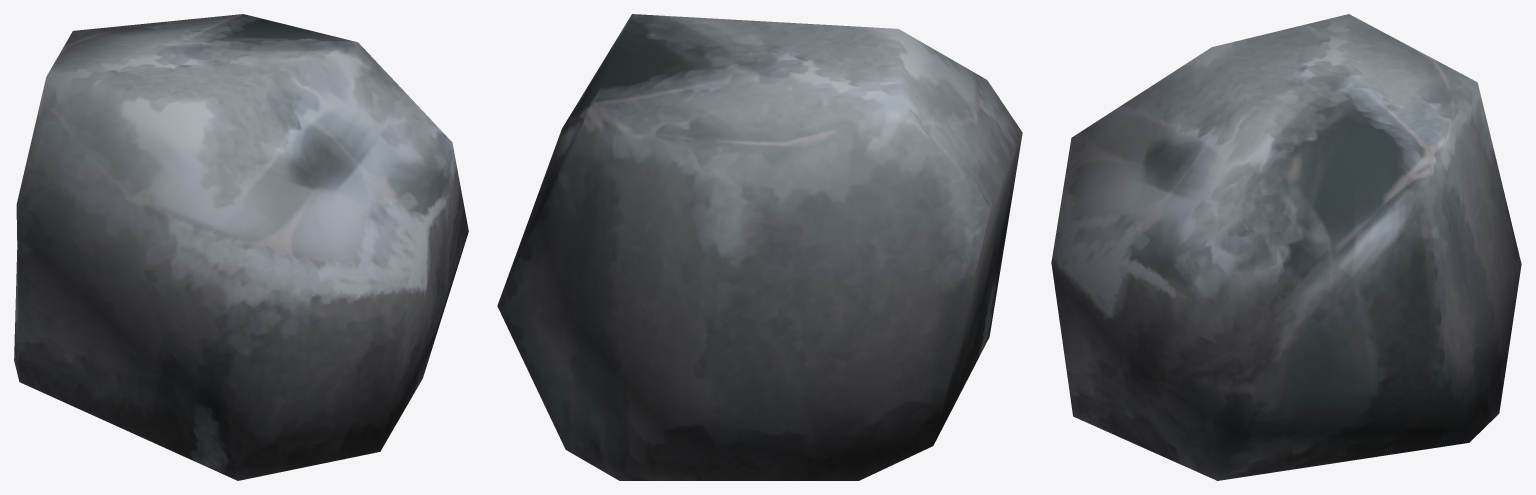
File: Msh_Rock5_Env.fbx
The picture shows the model from 3 angles, left to right: view 1: azimuth 30°, elevation 25°; view 2: azimuth 150°, elevation 25°; view 3: azimuth 270°, elevation 25°; orthographic projection. The views are drawn at different scales.
Visible parts, largest first — view 1: Rock_5; view 2: Rock_5; view 3: Rock_5.
Part boxes in pixels (x1,y1,x2,y2): Rock_5: [14, 14, 468, 480]; Rock_5: [497, 14, 1022, 480]; Rock_5: [1051, 14, 1521, 480].
Size of the model in its own units: 35.22 by 26.29 by 34.19.
